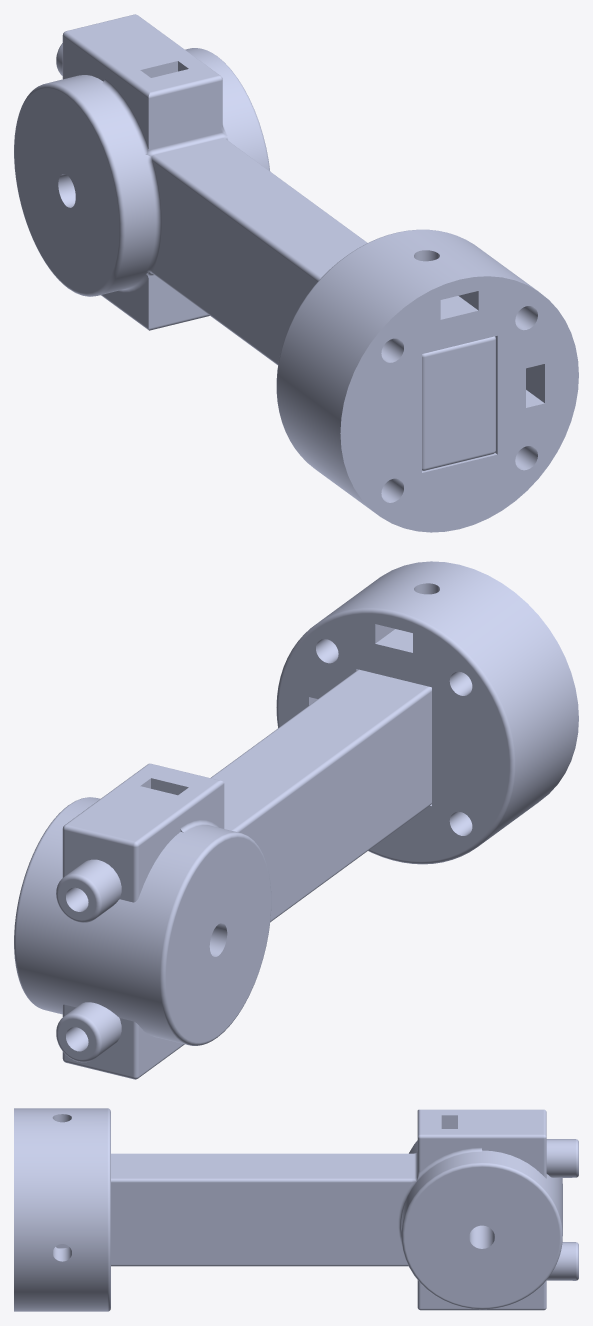
File: pen_support.dae
3 views of the same model, one above another, from view 1: azimuth 30°, elevation 25°; view 2: azimuth 150°, elevation 25°; view 3: azimuth 270°, elevation 25° (orthographic). The views are drawn at different scales.
Parts seen in each view (by area): view 1: hasteFBXASC0321, baseFBXASC0321, cabeFBXASC195FBXASC167aFBXASC032peFBXASC195FBXASC167aFBXASC0; view 2: baseFBXASC0321, cabeFBXASC195FBXASC167aFBXASC032peFBXASC195FBXASC167aFBXASC0, hasteFBXASC0321; view 3: hasteFBXASC0321, baseFBXASC0321, cabeFBXASC195FBXASC167aFBXASC032peFBXASC195FBXASC167aFBXASC0.
Part boxes in pixels (left/top/right/bottom): hasteFBXASC0321: left=67, top=45, right=495, bottom=470; baseFBXASC0321: left=276, top=229, right=578, bottom=532; cabeFBXASC195FBXASC167aFBXASC032peFBXASC195FBXASC167aFBXASC0: left=14, top=14, right=216, bottom=298; baseFBXASC0321: left=276, top=561, right=578, bottom=864; cabeFBXASC195FBXASC167aFBXASC032peFBXASC195FBXASC167aFBXASC0: left=14, top=794, right=218, bottom=1079; hasteFBXASC0321: left=69, top=669, right=431, bottom=1047; hasteFBXASC0321: left=111, top=1109, right=481, bottom=1310; baseFBXASC0321: left=14, top=1108, right=110, bottom=1311; cabeFBXASC195FBXASC167aFBXASC032peFBXASC195FBXASC167aFBXASC0: left=482, top=1109, right=578, bottom=1310.
Bounding box in the file's own units: 0.063 × 0.063 × 0.175.
